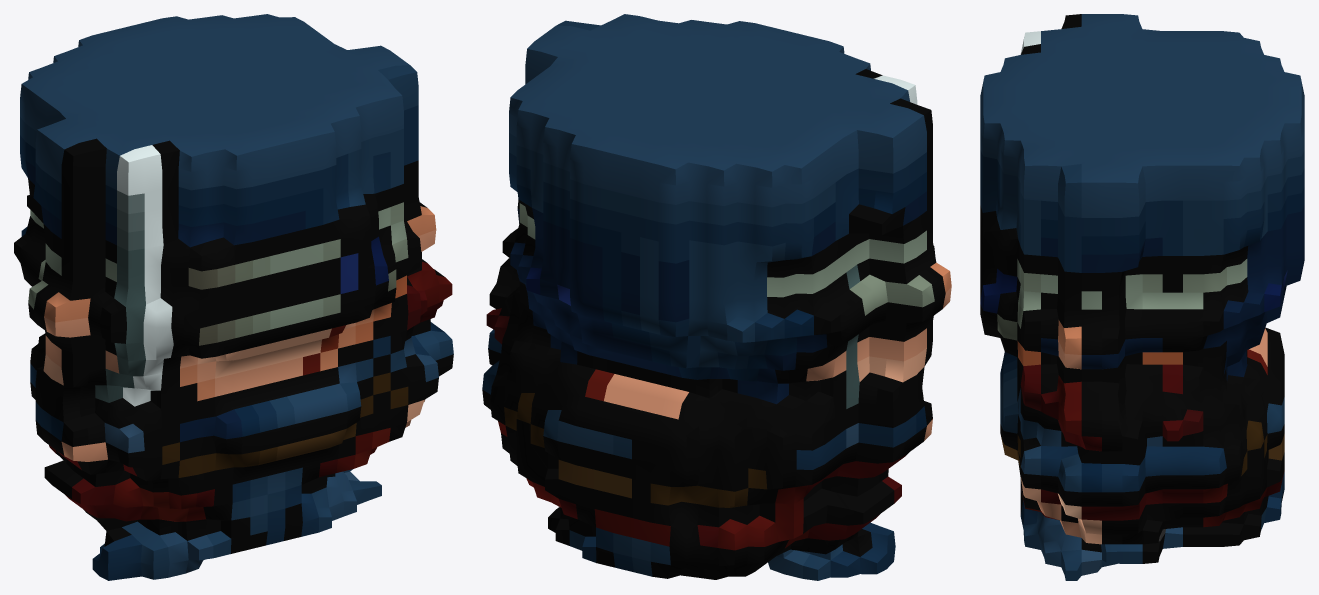
File: Icon_702_03.obj
The picture shows the model from 3 angles, left to right: view 1: azimuth 30°, elevation 25°; view 2: azimuth 150°, elevation 25°; view 3: azimuth 270°, elevation 25°; orthographic projection. The views are drawn at different scales.
Bounding box in the file's own units: 2.3 × 2.4 × 1.6.
Materials: 1 (1 with a texture image).
